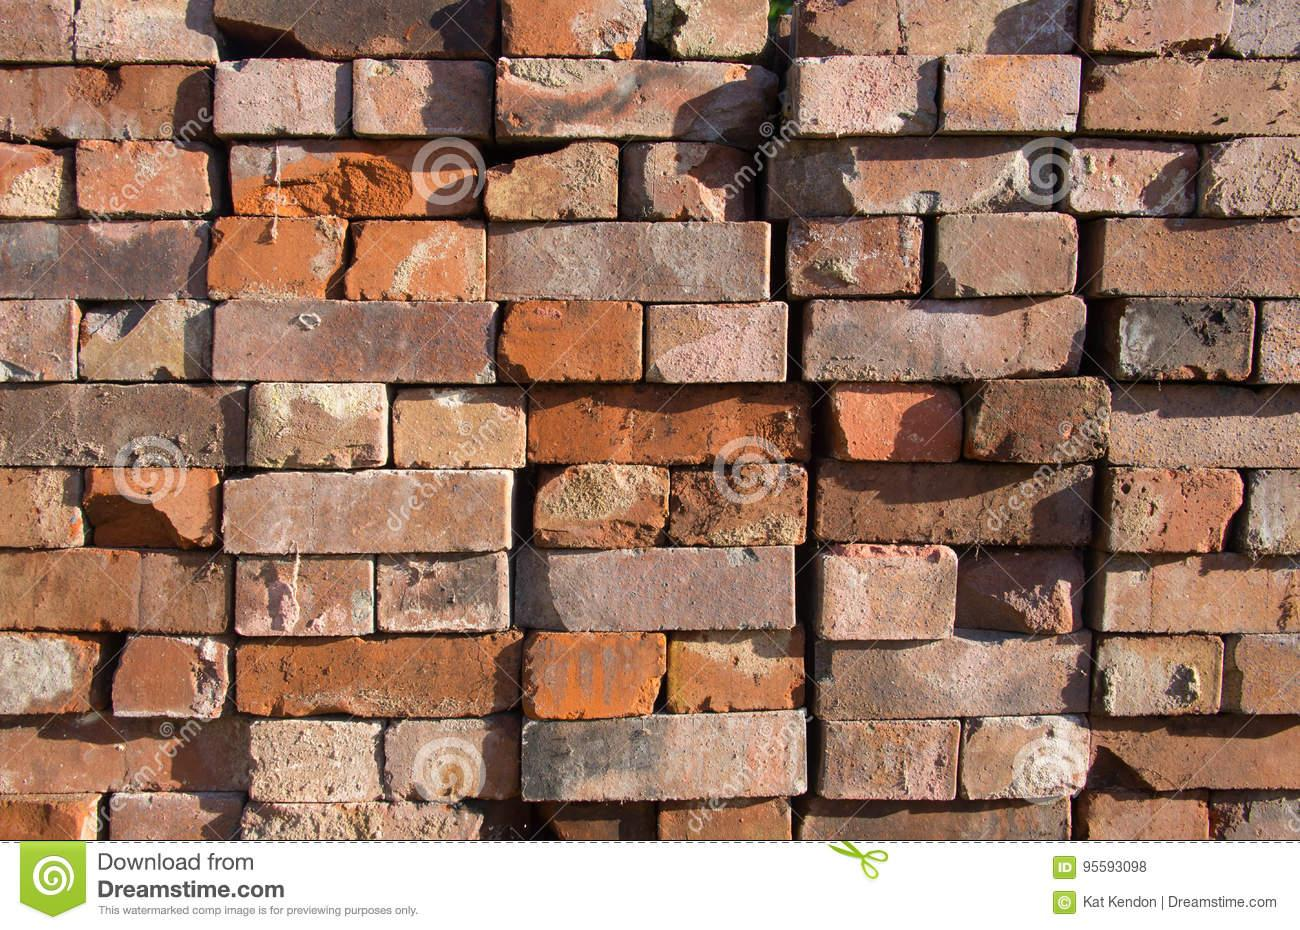brick: (522, 710, 807, 801), (236, 631, 524, 716), (802, 296, 1087, 380), (815, 633, 1092, 720), (515, 546, 795, 631), (224, 470, 513, 553), (487, 221, 770, 301), (213, 302, 496, 381), (496, 57, 777, 137), (528, 387, 810, 463), (817, 467, 1094, 541), (0, 383, 245, 466), (770, 142, 1029, 216), (0, 548, 228, 632), (229, 141, 476, 215), (0, 717, 242, 792), (0, 220, 208, 298), (1083, 59, 1300, 133), (1102, 217, 1300, 297), (1, 64, 211, 138), (1108, 386, 1300, 466), (1104, 554, 1300, 631), (798, 0, 1075, 53), (1091, 727, 1300, 790), (820, 544, 958, 639), (213, 0, 455, 54), (966, 375, 1112, 463), (523, 633, 667, 720), (936, 212, 1078, 297), (498, 301, 642, 383), (207, 216, 347, 301), (533, 464, 672, 549), (667, 629, 805, 713), (343, 219, 486, 300), (247, 384, 387, 466), (1108, 467, 1244, 552), (795, 54, 938, 134), (1115, 298, 1256, 378), (648, 302, 787, 383), (820, 721, 960, 800), (961, 715, 1091, 800), (671, 464, 807, 546), (799, 799, 1072, 839), (786, 218, 922, 299), (249, 720, 381, 801), (377, 552, 509, 632), (235, 559, 373, 635), (943, 54, 1081, 131), (393, 387, 525, 467), (79, 300, 209, 380), (215, 58, 349, 136), (85, 468, 217, 546), (353, 59, 489, 134), (831, 383, 961, 461), (485, 144, 618, 219), (1096, 635, 1225, 713), (384, 719, 505, 801), (76, 140, 211, 212), (964, 553, 1084, 634), (1069, 139, 1197, 214), (113, 636, 229, 718), (623, 143, 742, 219), (240, 803, 483, 840), (76, 0, 217, 60), (0, 633, 100, 715), (1201, 137, 1300, 216), (1094, 0, 1233, 56), (502, 1, 646, 54), (647, 1, 770, 57), (0, 469, 84, 546), (1083, 792, 1210, 841), (110, 792, 238, 839), (0, 301, 72, 380), (660, 797, 791, 840), (1235, 633, 1300, 713), (1, 142, 69, 214), (1, 794, 101, 842), (1245, 469, 1300, 554), (0, 0, 74, 60), (1229, 0, 1300, 57), (1213, 799, 1300, 840), (1260, 300, 1300, 382)
